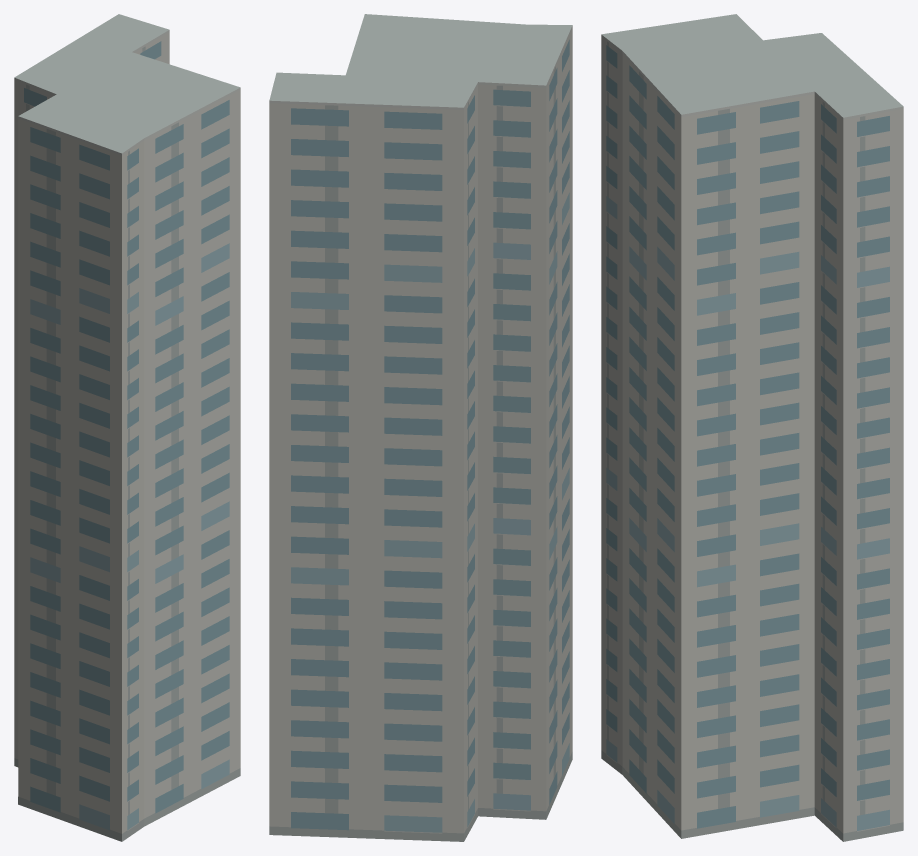
Rendered from residential-f4ebef74-4ec7-4f28-be82-ebbbbb18ac81.glb.
3 views of the same model, side by side, from view 1: azimuth 30°, elevation 25°; view 2: azimuth 150°, elevation 25°; view 3: azimuth 270°, elevation 25° (orthographic). The views are drawn at different scales.
Parts seen in each view (by area): view 1: residential-f4ebef74-4ec7-4f28-be82-ebbbbb18ac81.tmp; view 2: residential-f4ebef74-4ec7-4f28-be82-ebbbbb18ac81.tmp; view 3: residential-f4ebef74-4ec7-4f28-be82-ebbbbb18ac81.tmp.
Boxes of the visible parts, x1,y1,x2,y2 form: residential-f4ebef74-4ec7-4f28-be82-ebbbbb18ac81.tmp: (14, 14, 240, 841); residential-f4ebef74-4ec7-4f28-be82-ebbbbb18ac81.tmp: (269, 14, 572, 841); residential-f4ebef74-4ec7-4f28-be82-ebbbbb18ac81.tmp: (601, 14, 903, 841).
Bounding box in the file's own units: 22.51 × 73.2 × 27.72.
